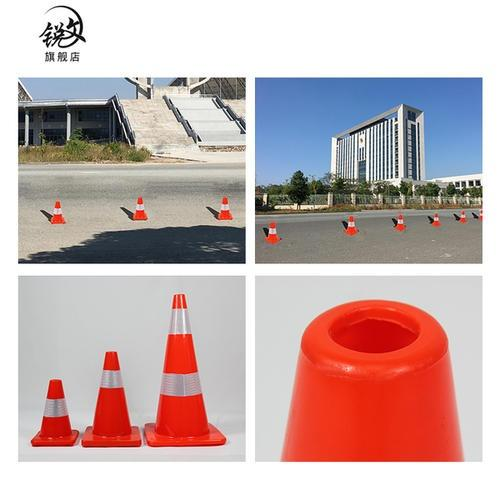cone_barrel: (278, 282, 455, 470), (145, 292, 222, 446), (85, 349, 136, 446), (27, 374, 76, 446), (121, 190, 149, 221), (206, 191, 233, 221), (40, 197, 65, 225), (261, 219, 280, 243), (340, 213, 359, 236), (391, 212, 406, 231), (430, 212, 441, 226), (458, 211, 468, 224)
